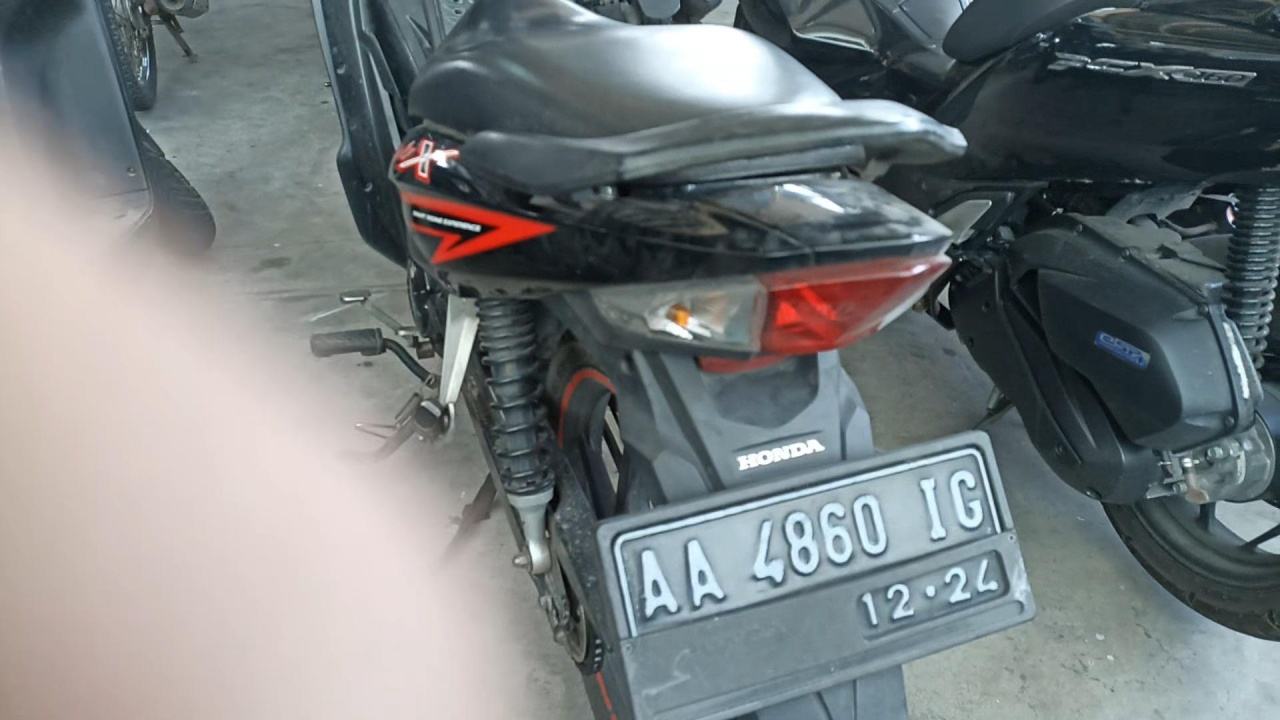plate: (605, 428, 1037, 720)
